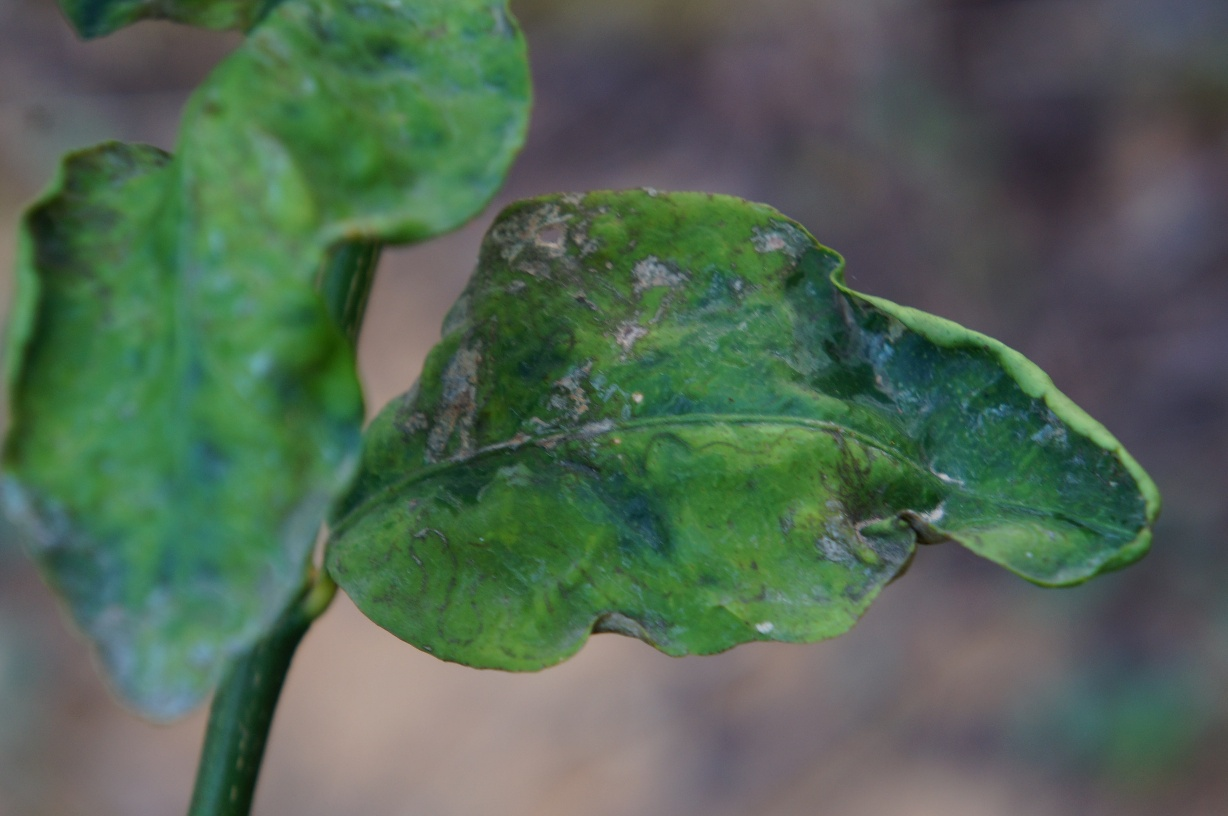curly: (312, 172, 1197, 693)
damage: (423, 207, 767, 481)
